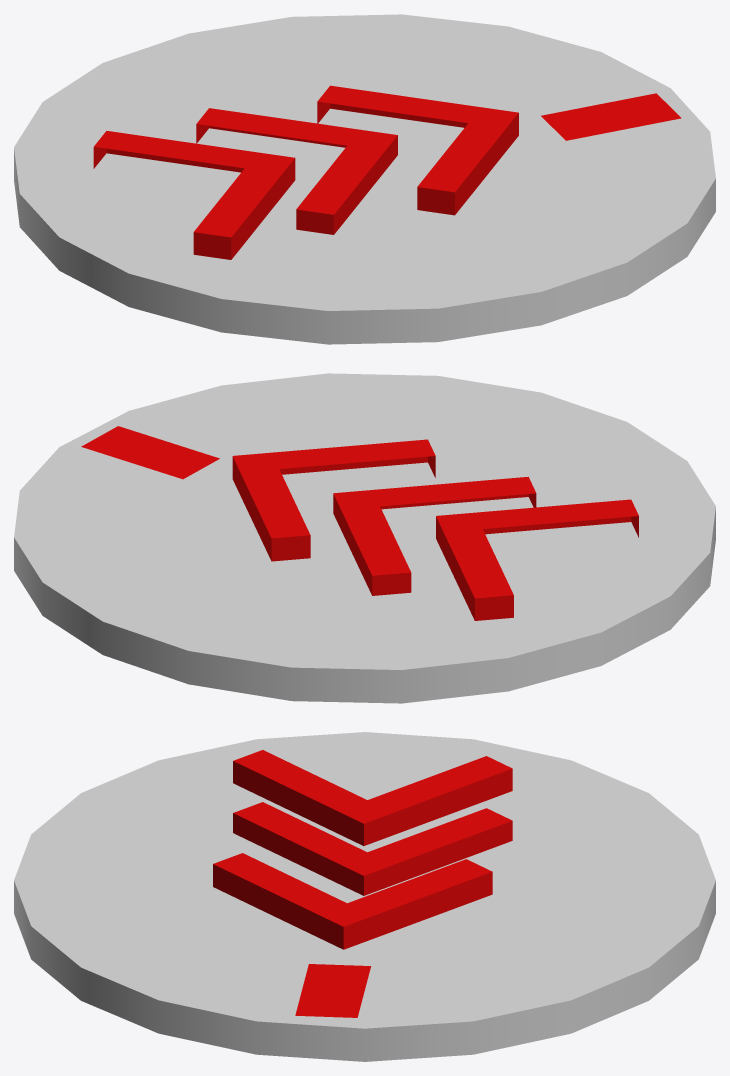
Rendered from speedDownObj.fbx.
3 views of the same model, one above another, from view 1: azimuth 30°, elevation 25°; view 2: azimuth 150°, elevation 25°; view 3: azimuth 270°, elevation 25° (orthographic).
Visible parts, largest first — view 1: speedDownObj; view 2: speedDownObj; view 3: speedDownObj.
Boxes of the visible parts, x1,y1,x2,y2 form: speedDownObj: [14, 14, 715, 344]; speedDownObj: [14, 373, 715, 703]; speedDownObj: [14, 732, 715, 1061].
Size of the model in its own units: 2.96 by 0.2616 by 2.96.
